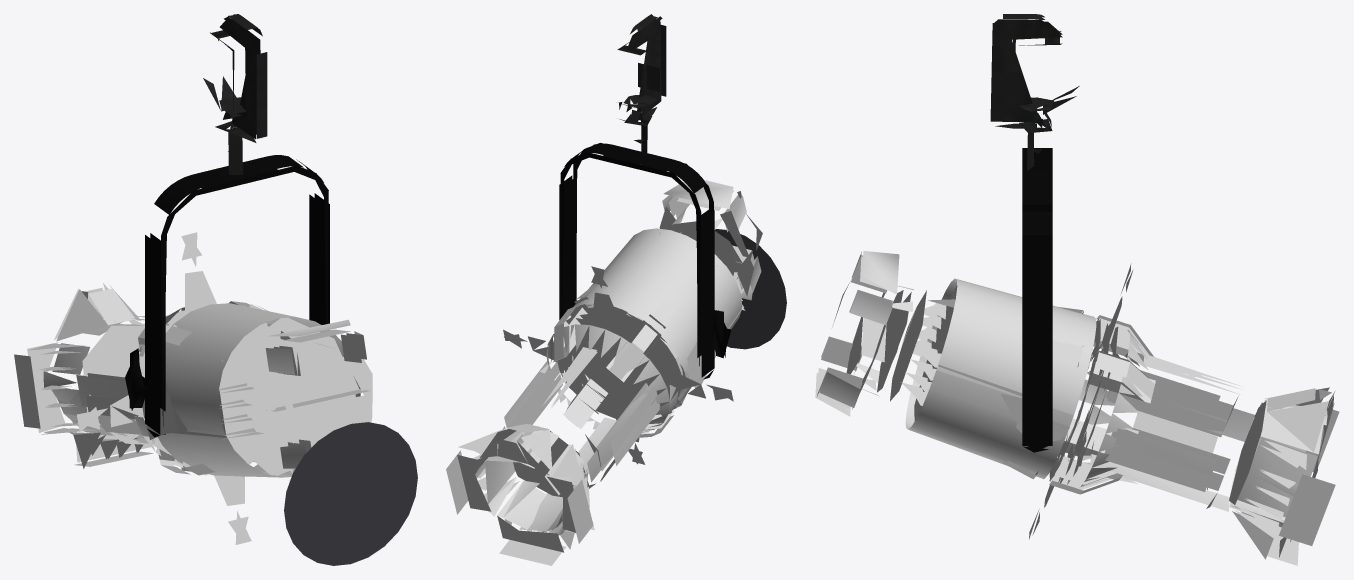
The model's file is source-four.glb.
The picture shows the model from 3 angles, left to right: view 1: azimuth 30°, elevation 25°; view 2: azimuth 150°, elevation 25°; view 3: azimuth 270°, elevation 25°; orthographic projection. The views are drawn at different scales.
Visible parts, largest first — view 1: head, lens, yoke, base; view 2: head, yoke, lens, base; view 3: head, yoke, base.
Part boxes in pixels (x1=…): head: x1=14, y1=232, x2=372, y2=544; lens: x1=284, y1=422, x2=417, y2=565; yoke: x1=125, y1=155, x2=329, y2=437; base: x1=203, y1=14, x2=267, y2=174; head: x1=446, y1=180, x2=762, y2=565; yoke: x1=559, y1=143, x2=731, y2=379; lens: x1=714, y1=229, x2=786, y2=349; base: x1=617, y1=14, x2=666, y2=164; head: x1=815, y1=251, x2=1339, y2=565; yoke: x1=1022, y1=148, x2=1052, y2=452; base: x1=990, y1=14, x2=1079, y2=170.
Size of the model in its own units: 0.328 by 0.6167 by 0.5503.
Materials: 4 (1 with a texture image).
